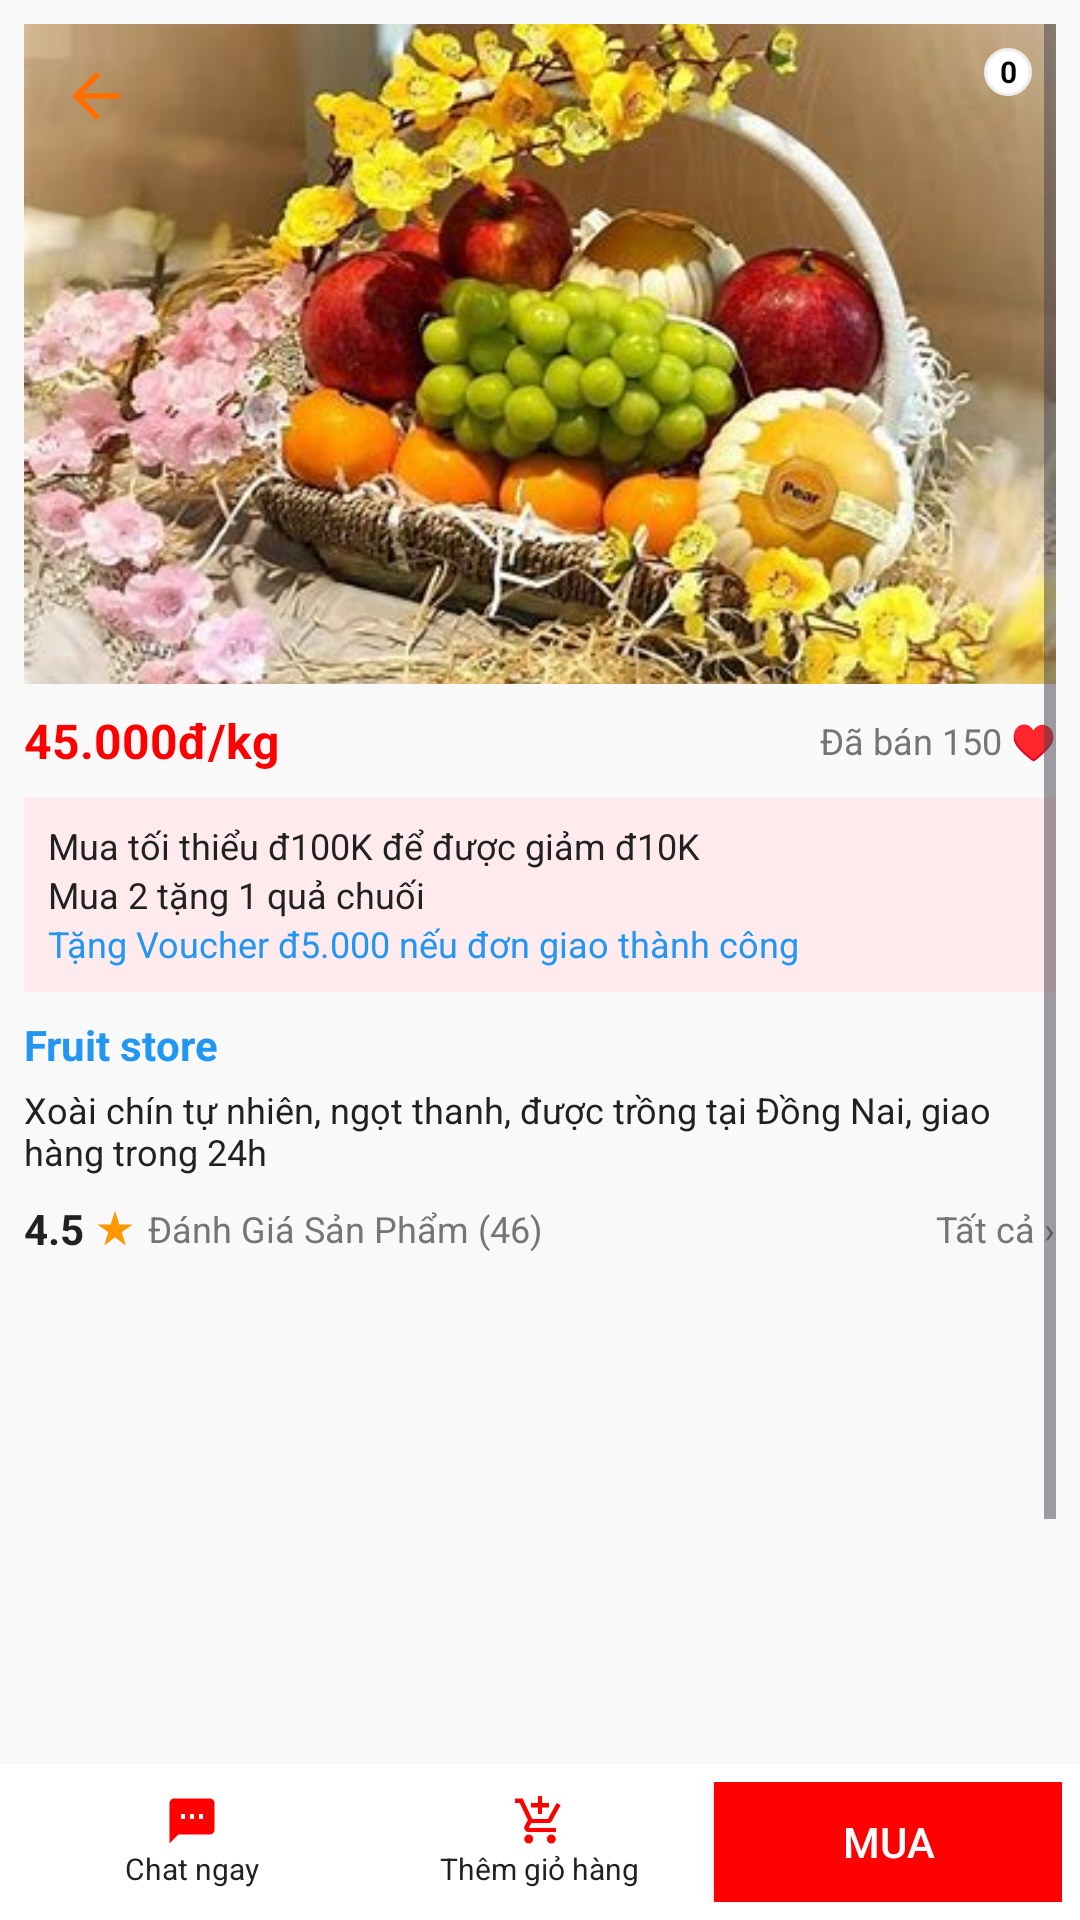

Icons on this 1080w x 1920h Android screen, each with its box as (x1, y1, x2, y2):
messeage: (169, 1798, 215, 1843)
star: (97, 1211, 132, 1246)
